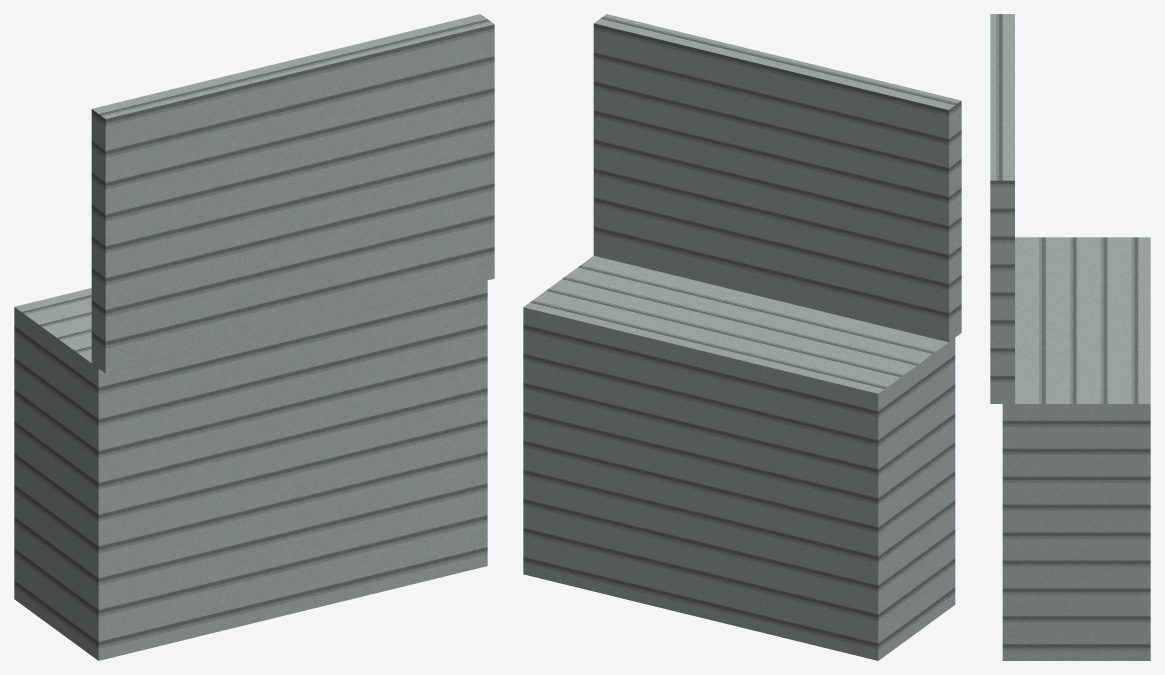
File: pharmacy_dispensing_counter.glb
The picture shows the model from 3 angles, left to right: view 1: azimuth 30°, elevation 25°; view 2: azimuth 150°, elevation 25°; view 3: azimuth 270°, elevation 25°; orthographic projection. The views are drawn at different scales.
Parts seen in each view (by area): view 1: pharmacy_dispensing_counter-col; view 2: pharmacy_dispensing_counter-col; view 3: pharmacy_dispensing_counter-col.
Boxes of the visible parts, x1,y1,x2,y2 form: pharmacy_dispensing_counter-col: (14,14,494,660); pharmacy_dispensing_counter-col: (523,14,961,660); pharmacy_dispensing_counter-col: (990,14,1150,660).
Size of the model in its own units: 1.6 by 2.15 by 0.65.
Materials: 1 (1 with a texture image).
